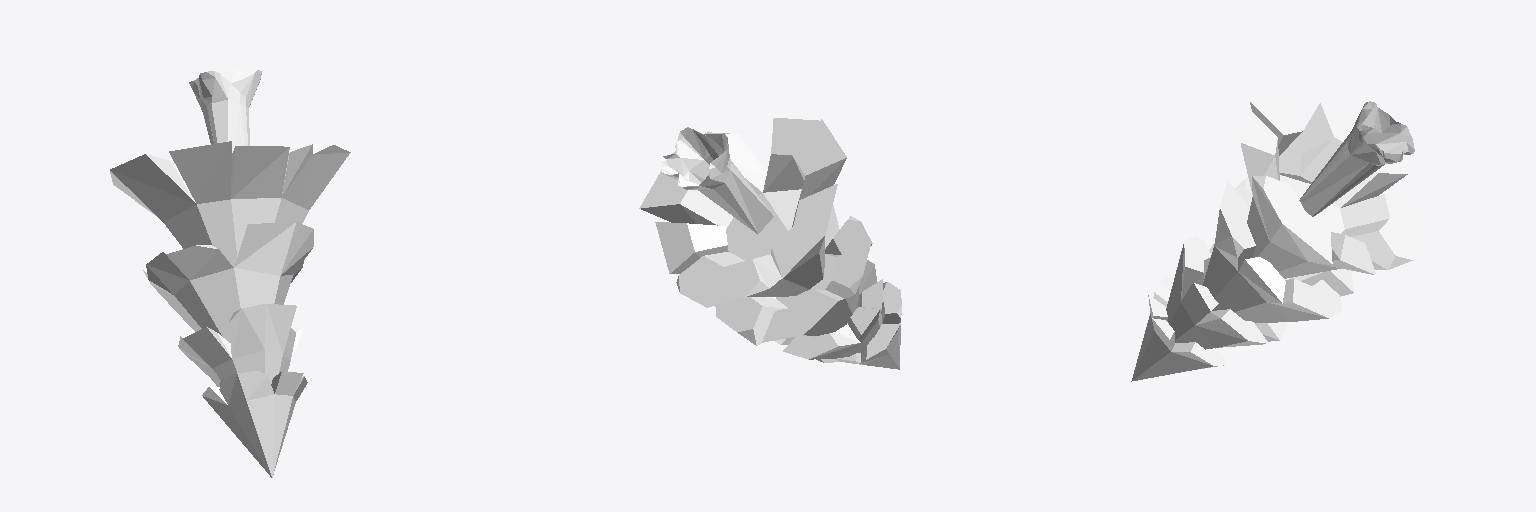
The model's file is arbol.obj.
The picture shows the model from 3 angles: view 1: azimuth 30°, elevation 25°; view 2: azimuth 150°, elevation 25°; view 3: azimuth 270°, elevation 25°; orthographic projection.
Parts seen in each view (by area): view 1: MAT_MAIN; view 2: MAT_MAIN; view 3: MAT_MAIN.
Part boxes in pixels (bbox=[...]): MAT_MAIN: bbox=[110, 70, 350, 477]; MAT_MAIN: bbox=[639, 118, 901, 369]; MAT_MAIN: bbox=[1131, 94, 1428, 381].
Bounding box in the file's own units: 0.0126 × 0.018 × 0.0158.